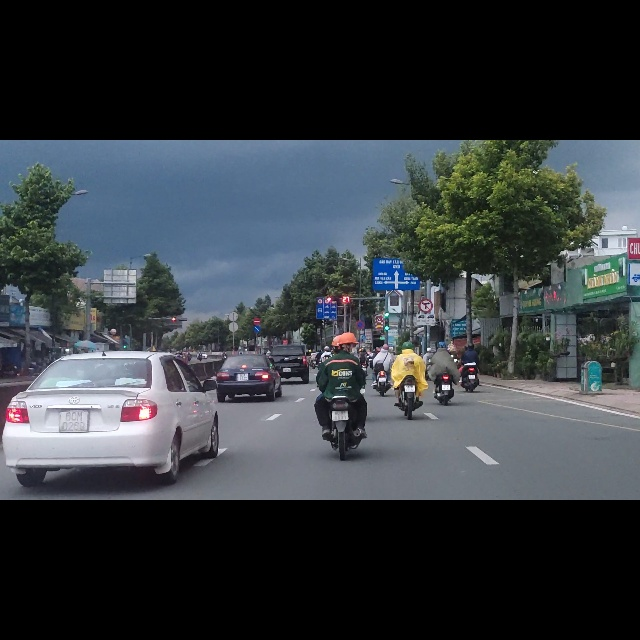bien_cam: (317, 290, 337, 319), (419, 283, 433, 308), (356, 322, 364, 336), (253, 330, 261, 342), (254, 316, 260, 328)
